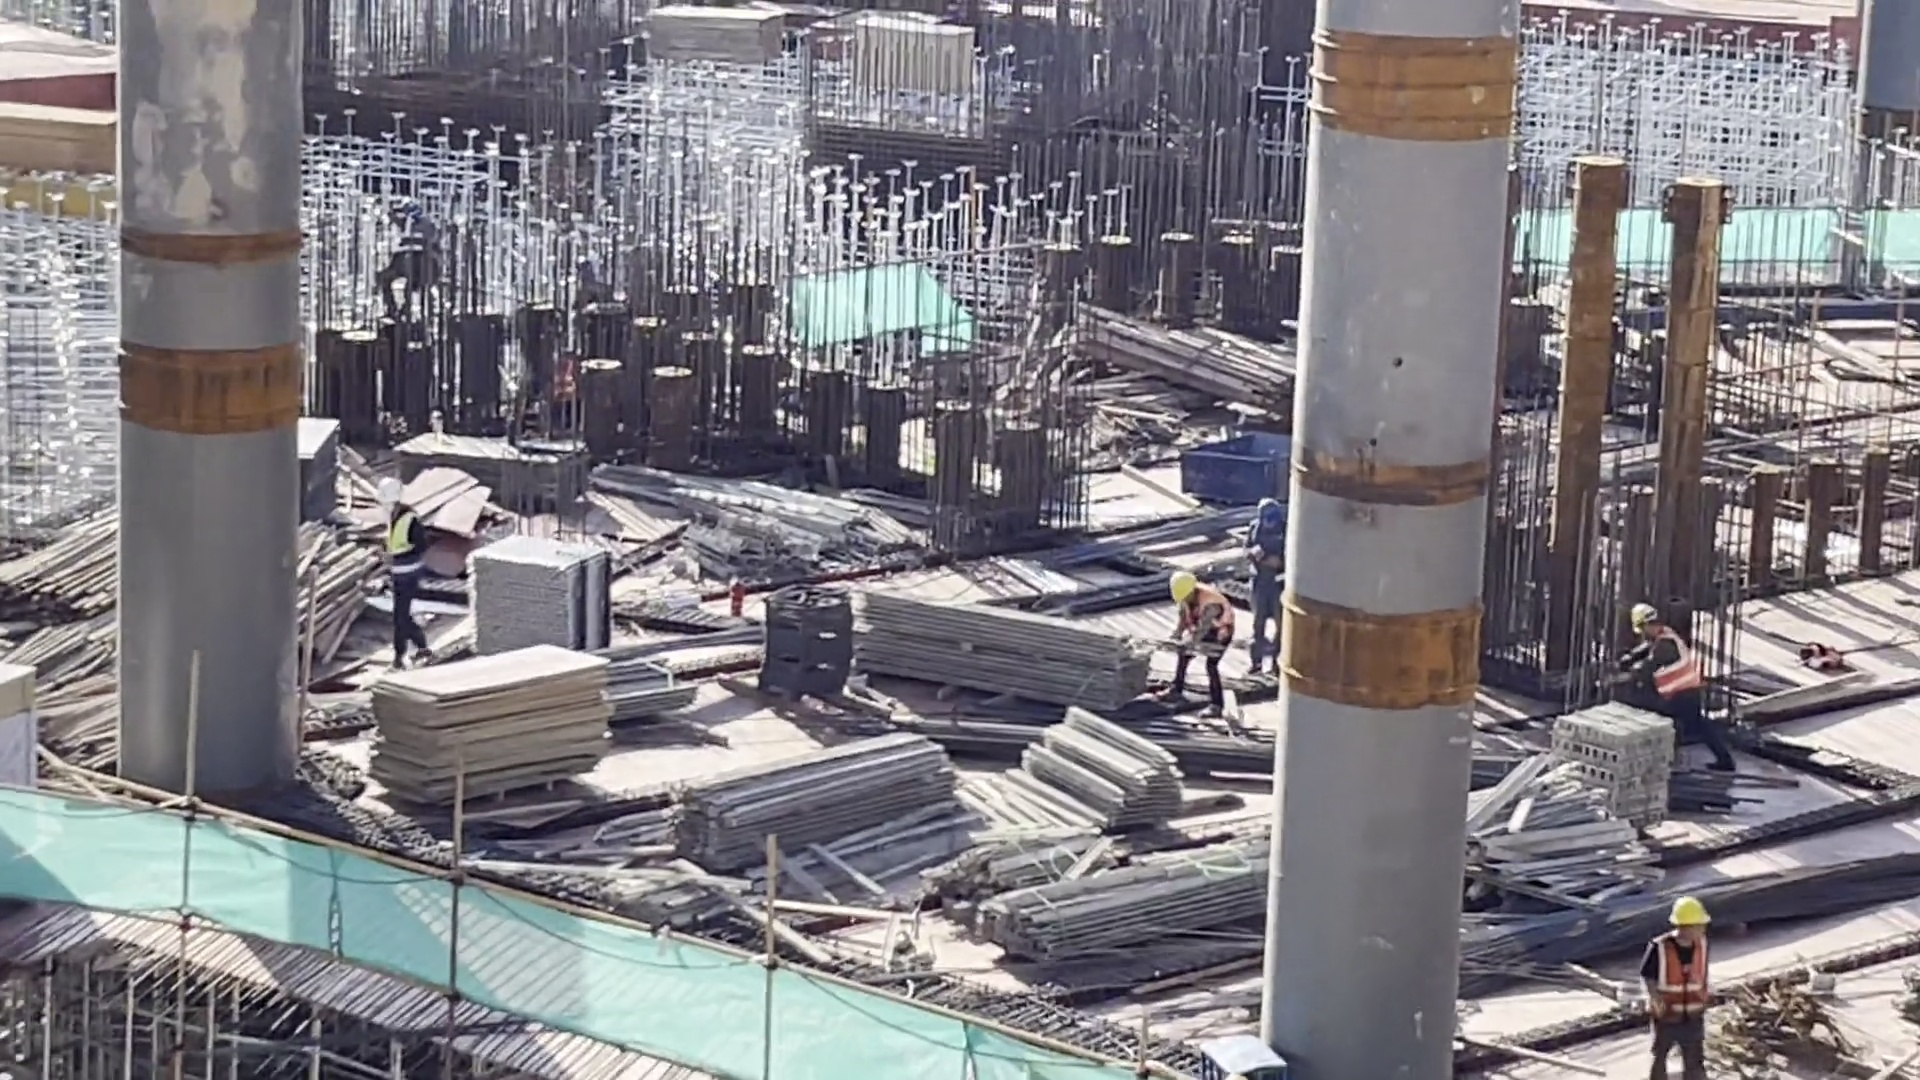board: (388, 647, 601, 784), (414, 429, 629, 519), (601, 1, 771, 77), (334, 437, 378, 506)
helmet: (1668, 884, 1704, 936), (1624, 586, 1656, 641), (379, 468, 404, 508), (1254, 499, 1280, 527), (1177, 569, 1203, 599), (407, 200, 421, 220)
hopper: (1174, 437, 1289, 501)
person: (1631, 596, 1743, 788), (1633, 885, 1720, 1080), (369, 460, 443, 675), (376, 191, 451, 318), (1178, 558, 1239, 706), (1253, 501, 1281, 670)
rebar: (886, 704, 1271, 808), (1473, 893, 1920, 951), (1014, 526, 1233, 545)
scaffold: (481, 541, 603, 662)
vest: (1654, 924, 1703, 1001), (393, 219, 446, 271), (1649, 631, 1689, 697), (389, 496, 426, 559), (1271, 511, 1303, 584), (1204, 589, 1241, 651)
wood: (1111, 302, 1298, 402), (4, 487, 131, 622), (851, 26, 971, 99), (1, 110, 113, 172)
